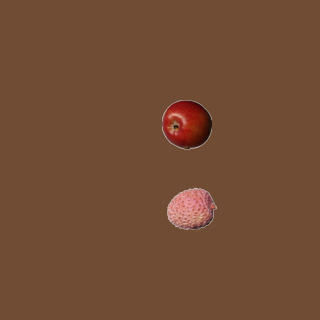Apple Braeburn: (161, 99, 211, 149)
Lychee: (166, 183, 216, 233)
